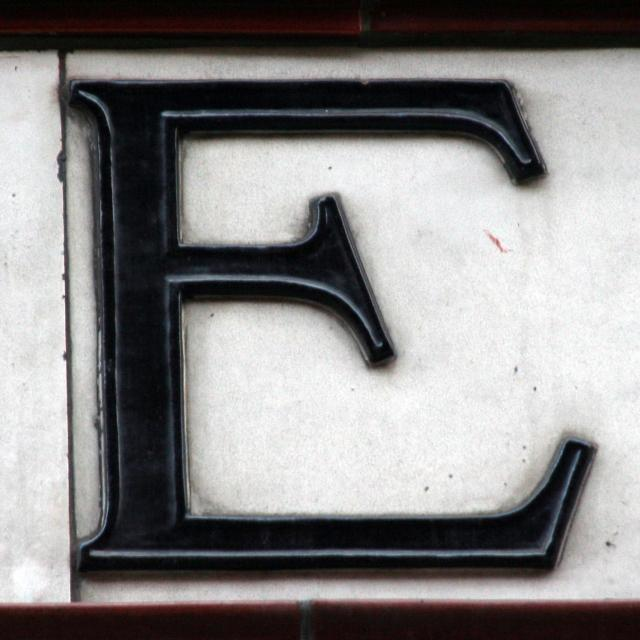E: (54, 64, 610, 586)
